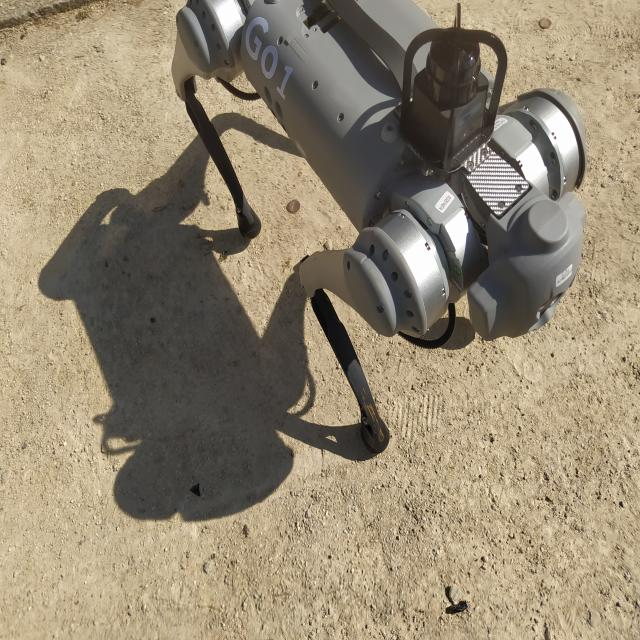unitree-go1-robot: (165, 0, 596, 462)
